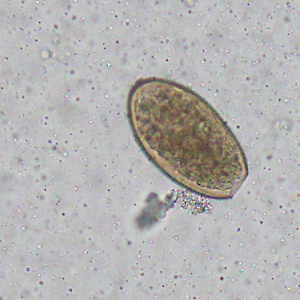Fasciola_hepatica_egg: (126, 76, 249, 200)
